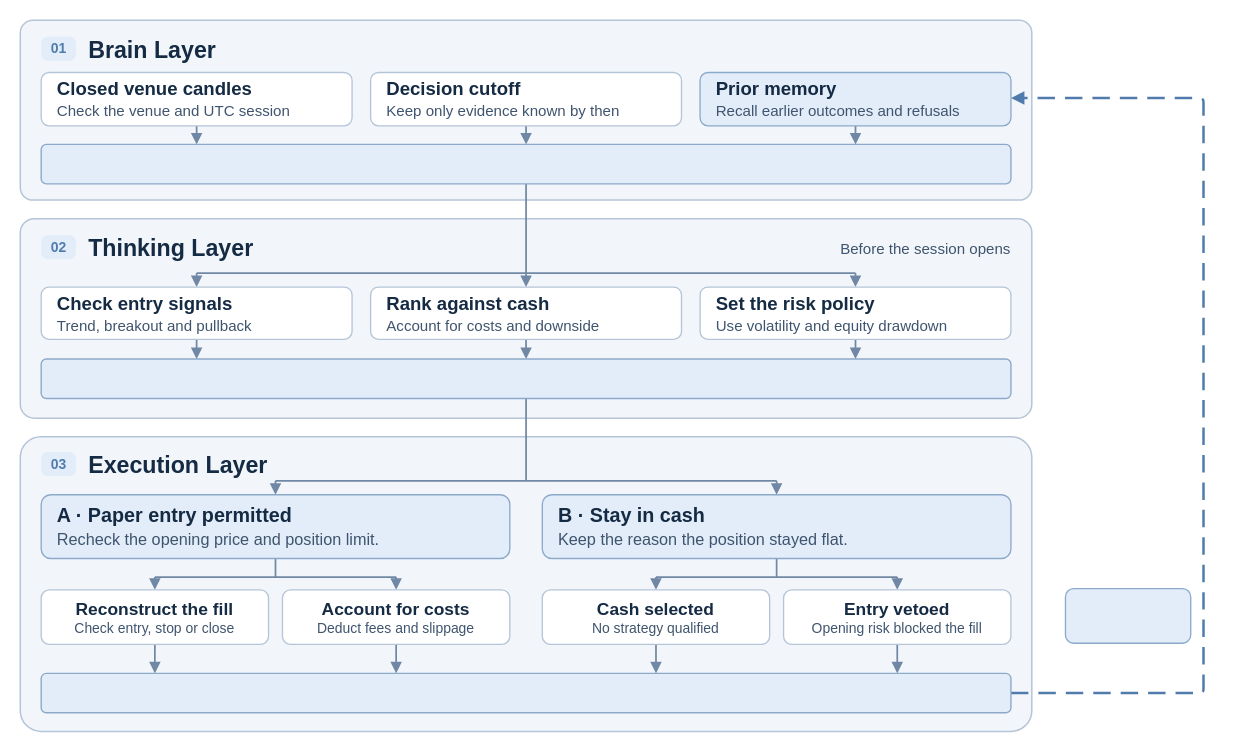
Image size: 1234x753. Some labels were removed from this diagram. Here are the shapes that lost their labels. From the top down, the centre of each, then its label:
point (525, 163): Frozen evidence · Venue, cutoff and content hash
point (525, 378): Registered decision · Strategy, position cap and stop
point (1127, 615): Write back For later decisions
point (525, 692): Verified outcome · Compare with registered benchmarks and save the receipt
